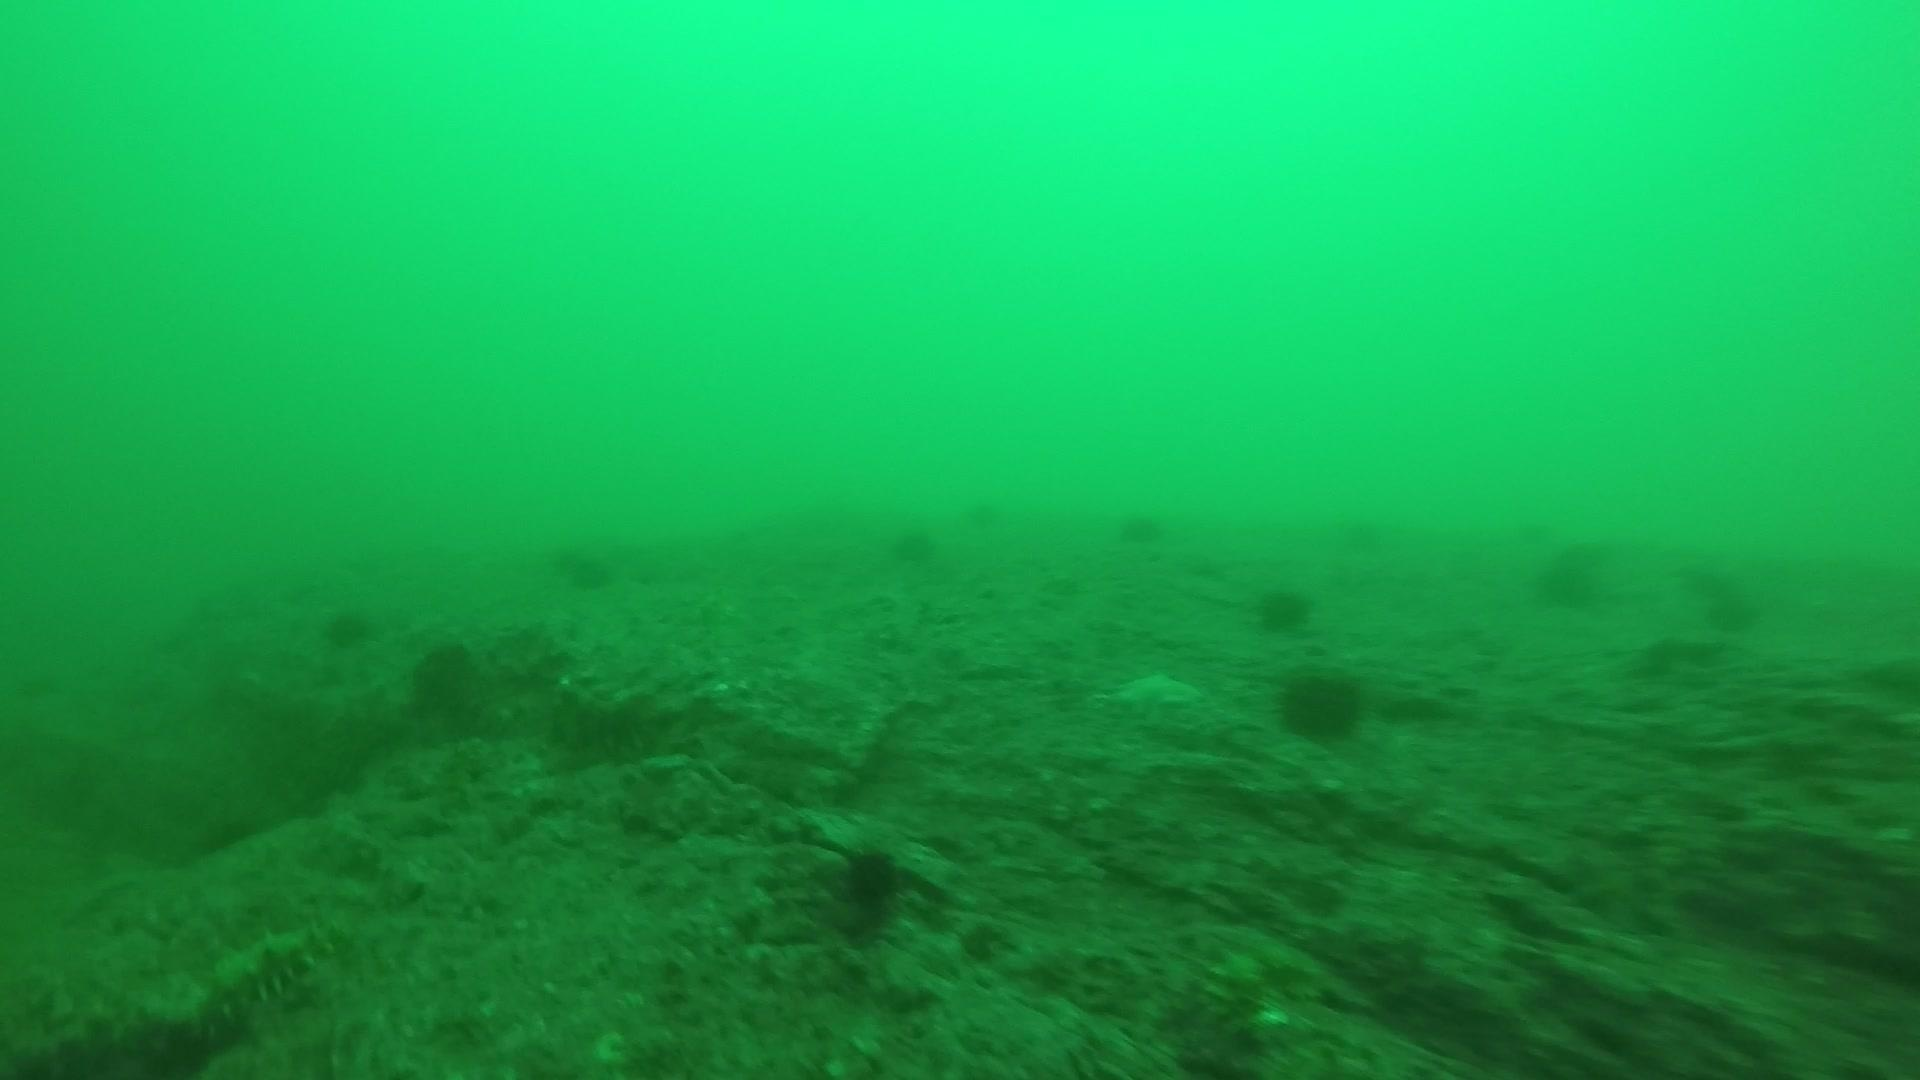echinus: (545, 678, 669, 770), (825, 836, 916, 928), (1273, 663, 1370, 748), (405, 634, 485, 717), (949, 484, 1021, 543), (1247, 578, 1317, 637), (877, 522, 947, 582), (1117, 495, 1187, 554), (1338, 506, 1408, 564), (1528, 562, 1601, 612), (1549, 534, 1622, 584), (316, 600, 377, 654), (1700, 591, 1764, 636), (1671, 556, 1735, 601), (535, 535, 597, 578), (559, 553, 620, 593)
holothurian: (179, 914, 338, 1039)
starfish: (1106, 667, 1207, 720)
